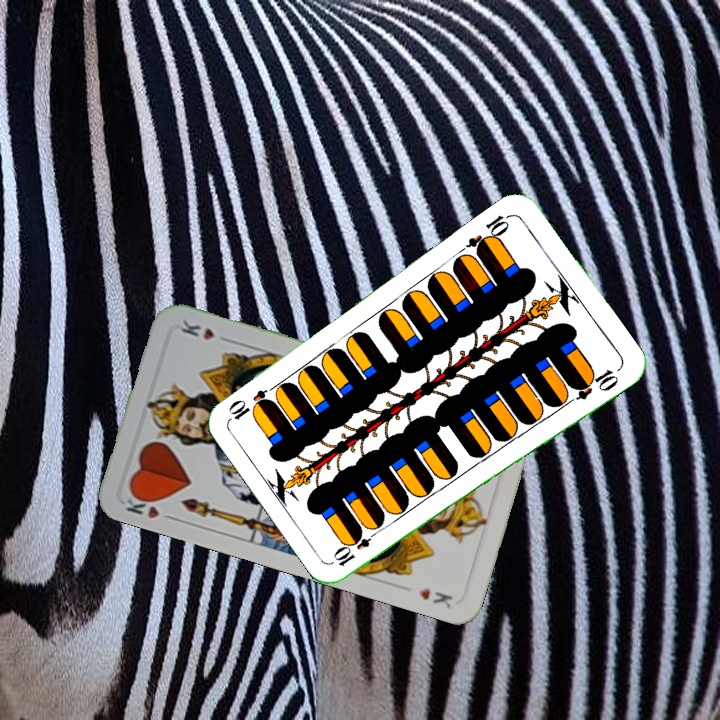E10: (463, 210, 514, 257), (330, 524, 382, 569)
HK: (121, 488, 178, 523)
